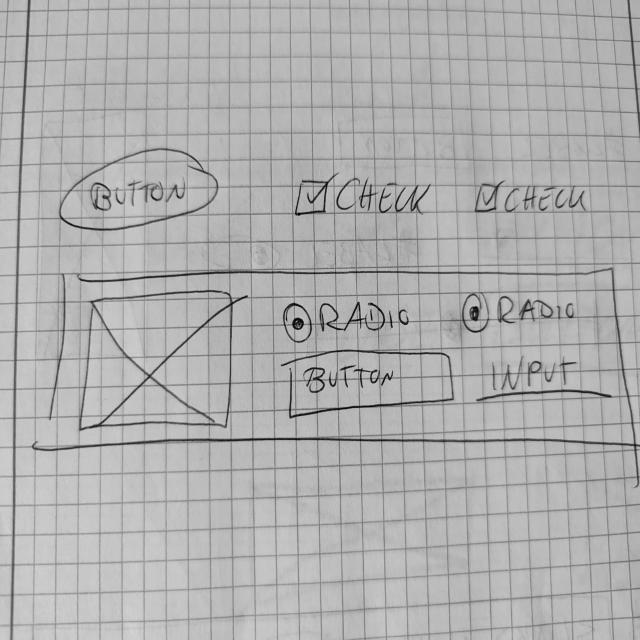button: (58, 148, 223, 235), (286, 347, 458, 421)
checkbox: (292, 172, 436, 221), (473, 181, 591, 219)
container: (46, 267, 640, 455)
image: (74, 288, 239, 435)
input: (475, 354, 615, 407)
radio: (282, 299, 416, 346), (460, 291, 579, 336)
